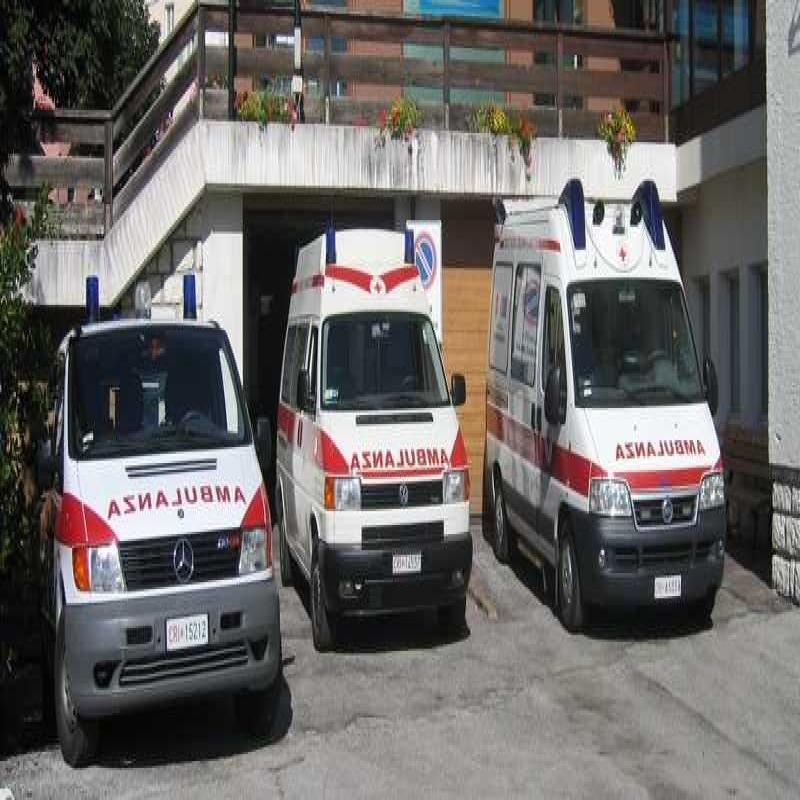ambulance: (38, 276, 277, 726), (485, 178, 728, 614), (281, 215, 455, 617)
